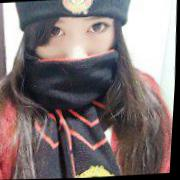WRONG: (25, 7, 124, 104)
